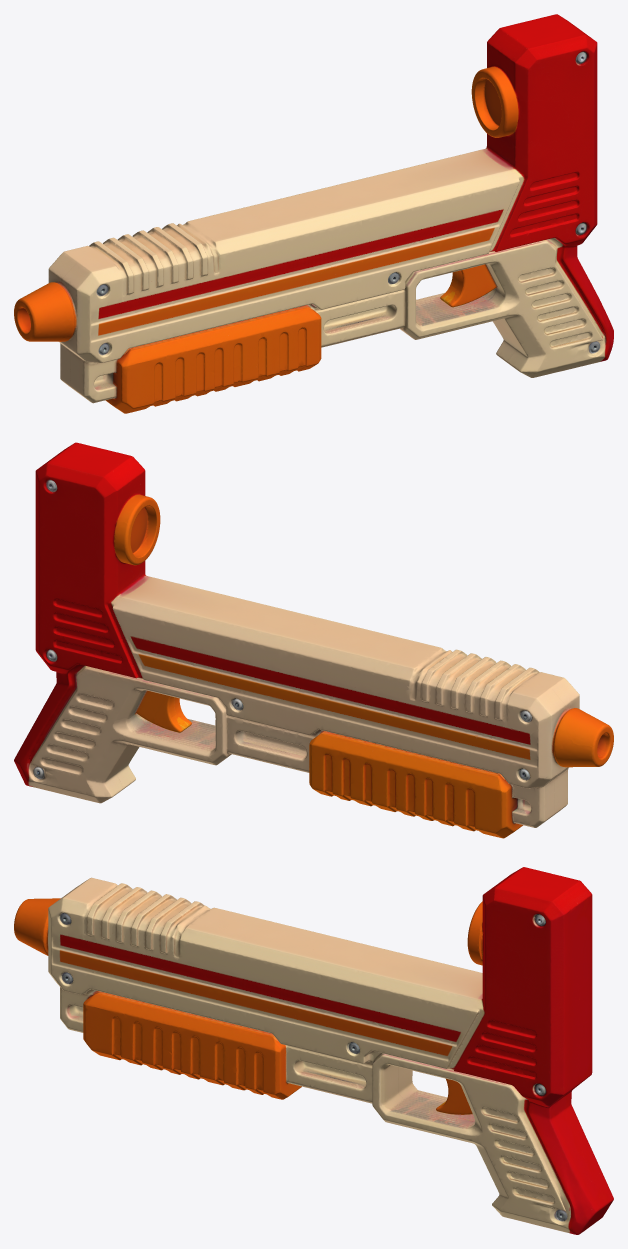
The model's file is RetroWaterBlasterBody.glb.
3 renders of one model, top to bottom at view 1: azimuth 30°, elevation 25°; view 2: azimuth 150°, elevation 25°; view 3: azimuth 330°, elevation 25°, orthographic.
Bounding box in the file's own units: 1.9 × 1.03 × 0.2335.
Materials: 1 (1 with a texture image).
